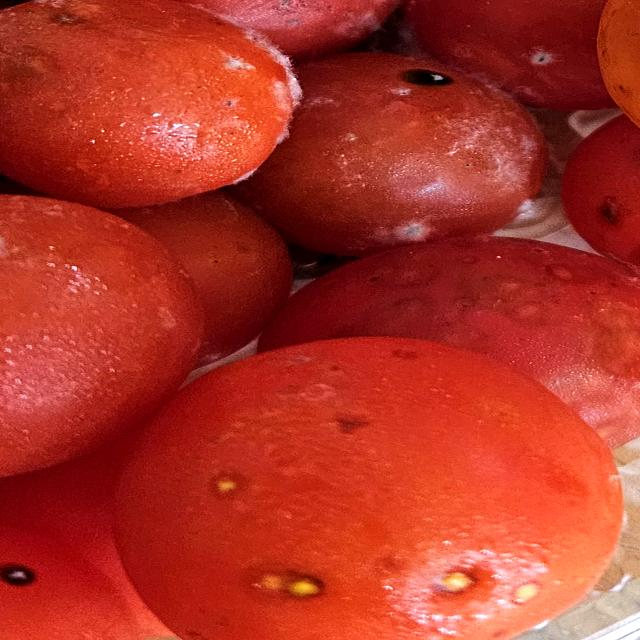rot_lvl1: (250, 568, 333, 600), (435, 562, 483, 597), (505, 576, 549, 609), (211, 470, 250, 498), (545, 260, 587, 285)
rot_lvl2: (397, 64, 454, 88), (0, 560, 38, 591), (398, 217, 435, 244), (222, 53, 261, 78), (528, 47, 561, 71)
